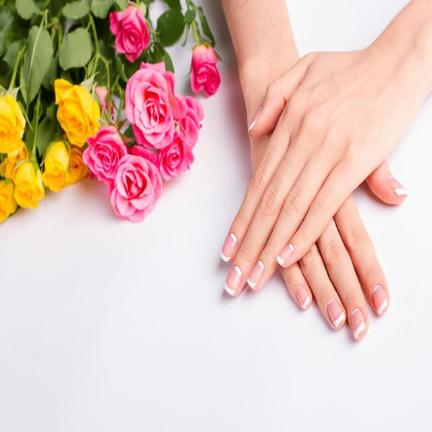Nail: (219, 232, 238, 262), (223, 266, 242, 296), (327, 298, 345, 328), (246, 261, 265, 288), (372, 285, 388, 316), (351, 308, 365, 340), (276, 243, 294, 266), (295, 285, 312, 309), (388, 177, 408, 196), (248, 107, 263, 132)
